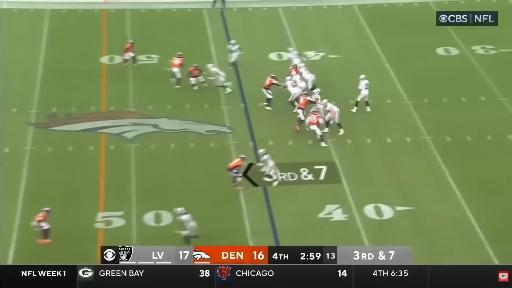Helmet: (175, 207, 186, 218), (42, 207, 52, 215), (257, 149, 268, 156), (321, 99, 328, 108), (359, 75, 367, 82), (240, 155, 247, 161), (175, 53, 183, 58), (128, 40, 134, 45), (193, 64, 199, 69), (231, 39, 236, 45), (313, 90, 319, 95), (206, 64, 213, 68), (312, 110, 319, 114), (271, 74, 276, 79), (293, 65, 298, 70), (303, 91, 309, 95), (289, 48, 293, 52), (286, 77, 290, 81), (292, 73, 296, 76)
Jersey: (178, 213, 197, 235), (32, 212, 49, 230), (311, 103, 327, 117), (228, 158, 243, 171), (307, 114, 323, 126), (293, 75, 306, 89), (298, 94, 310, 109), (288, 51, 301, 64), (261, 154, 275, 166), (264, 77, 277, 89), (171, 57, 184, 68), (359, 80, 369, 94), (300, 67, 312, 78), (189, 67, 202, 77), (326, 103, 339, 113), (285, 79, 296, 90), (214, 69, 226, 78), (311, 93, 321, 103), (228, 44, 239, 53), (124, 44, 134, 53), (289, 66, 299, 74), (288, 51, 299, 58)
Player: (174, 208, 198, 245), (258, 149, 279, 186), (263, 74, 284, 110), (322, 100, 344, 134), (31, 207, 51, 243), (351, 75, 370, 112), (207, 64, 231, 93), (307, 112, 327, 146), (296, 92, 313, 130), (228, 155, 245, 189), (286, 77, 302, 112), (298, 64, 317, 91), (170, 53, 184, 87), (189, 64, 207, 89), (228, 40, 241, 69), (310, 96, 326, 118), (123, 41, 136, 65), (291, 72, 307, 90), (288, 48, 302, 65), (312, 89, 321, 102), (289, 64, 299, 75)
